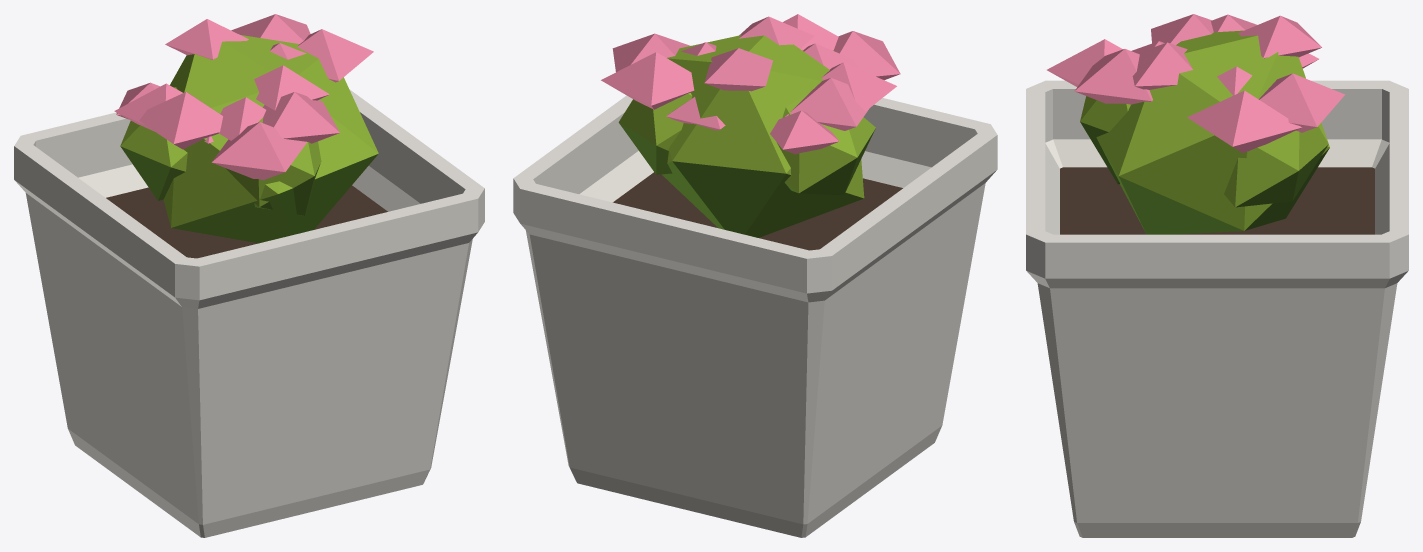
The model's file is SM_Street_Pot_SquareWhite_S_FlowerPink_01.gltf.
3 renders of one model, left to right at view 1: azimuth 30°, elevation 25°; view 2: azimuth 150°, elevation 25°; view 3: azimuth 270°, elevation 25°, orthographic. The views are drawn at different scales.
Visible parts, largest first — view 1: SM_Street_Pot_SquareWhite_S_FlowerPink_01; view 2: SM_Street_Pot_SquareWhite_S_FlowerPink_01; view 3: SM_Street_Pot_SquareWhite_S_FlowerPink_01.
Part boxes in pixels (x1,y1,x2,y2): SM_Street_Pot_SquareWhite_S_FlowerPink_01: (14, 14, 484, 537); SM_Street_Pot_SquareWhite_S_FlowerPink_01: (513, 14, 997, 537); SM_Street_Pot_SquareWhite_S_FlowerPink_01: (1026, 14, 1408, 537).
Bounding box in the file's own units: 0.24 × 0.3163 × 0.24.
Materials: 1 (1 with a texture image).
